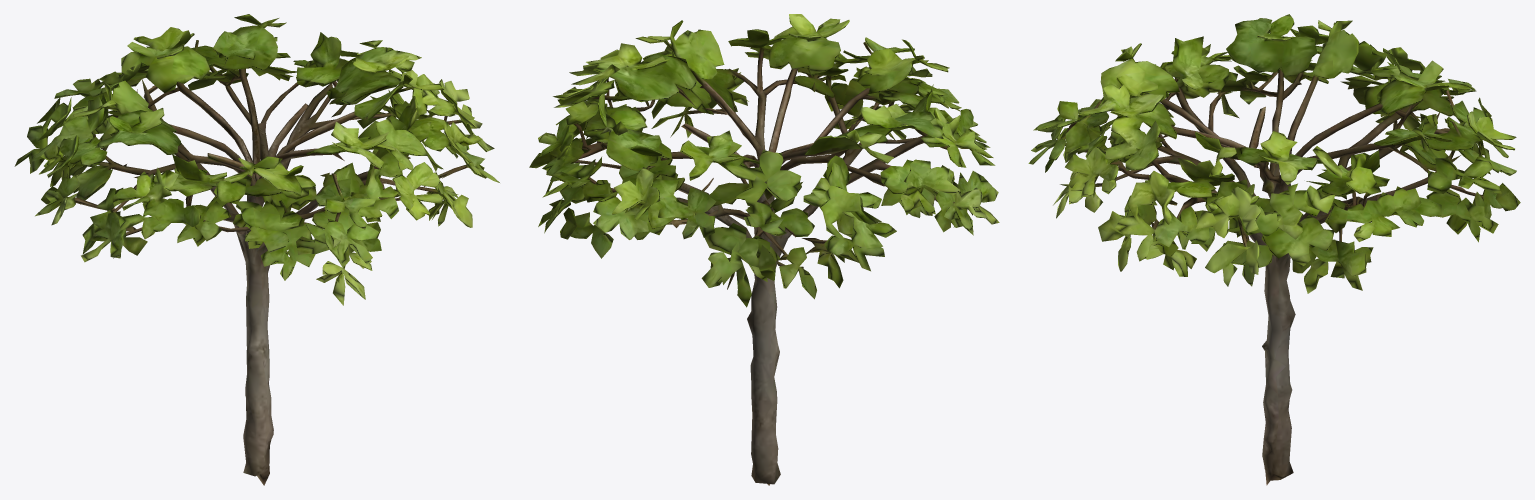
File: acacia.glb
3 views of the same model, side by side, from view 1: azimuth 30°, elevation 25°; view 2: azimuth 150°, elevation 25°; view 3: azimuth 270°, elevation 25° (orthographic). The views are drawn at different scales.
Parts seen in each view (by area): view 1: tripo_node_d72fd655-082d-405f-9b35-713462c38b56; view 2: tripo_node_d72fd655-082d-405f-9b35-713462c38b56; view 3: tripo_node_d72fd655-082d-405f-9b35-713462c38b56.
Part boxes in pixels (left/top/right/bottom): tripo_node_d72fd655-082d-405f-9b35-713462c38b56: left=14, top=14, right=499, bottom=485; tripo_node_d72fd655-082d-405f-9b35-713462c38b56: left=529, top=14, right=999, bottom=485; tripo_node_d72fd655-082d-405f-9b35-713462c38b56: left=1028, top=14, right=1520, bottom=485.
Size of the model in its own units: 1 by 0.896 by 0.9828.
1 material, 1 textured.
